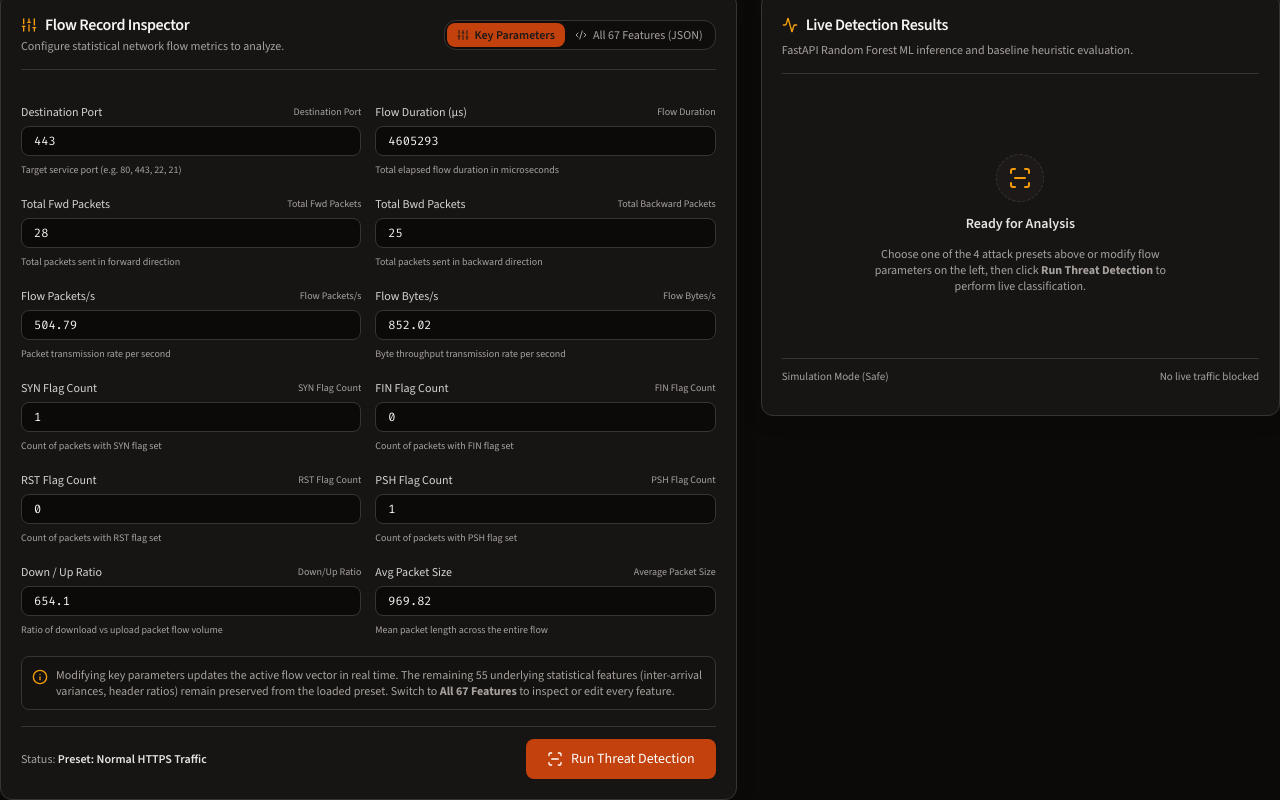
Flow Detection Feature (DetectPage) › successfully executes detection and displays comprehensive threat analysis results
(page scrolled)
Step 1. Click the button "Run Threat Detection" → (621, 758), box [526,738,716,778]
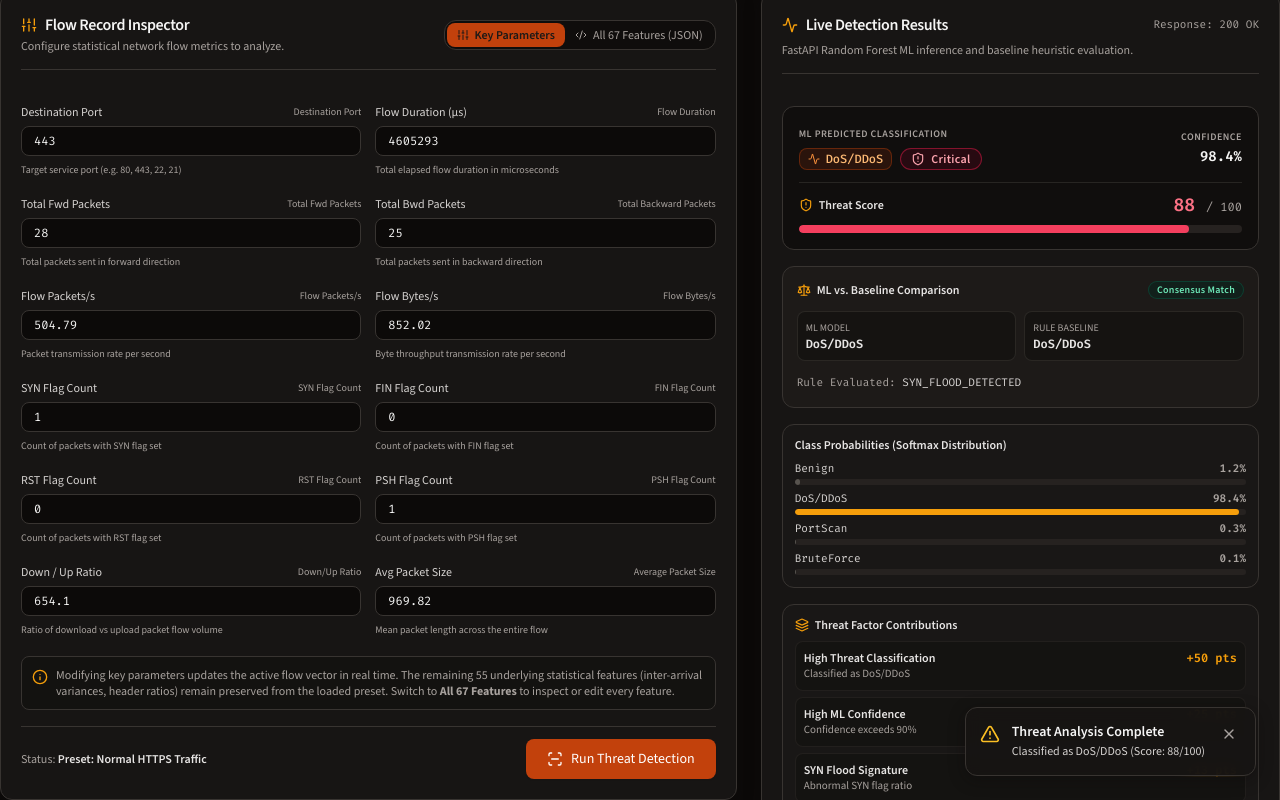
Now the text "Critical" is shown, box [931,150,971,166]
Now the text "88" is shown, box [1174,192,1195,216]
Now the text "Consensus Match" is shown, box [1148,280,1244,298]
